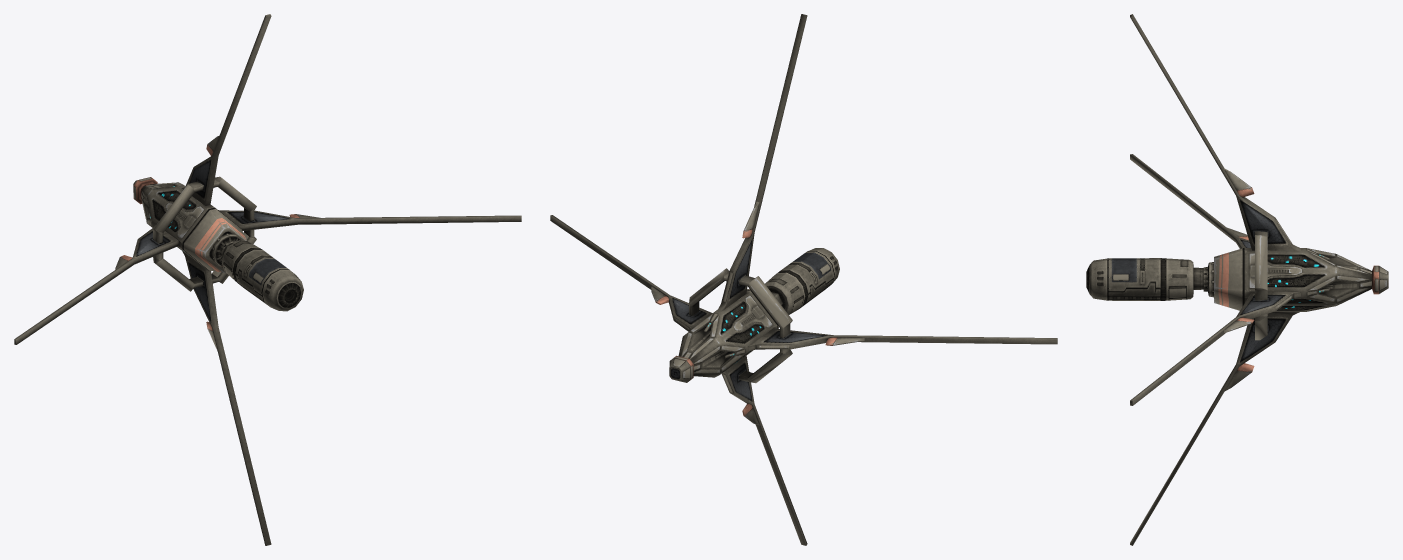
File: 28209_lite.glb
3 renders of one model, left to right at view 1: azimuth 30°, elevation 25°; view 2: azimuth 150°, elevation 25°; view 3: azimuth 270°, elevation 25°, orthographic.
Parts seen in each view (by area): view 1: ship; view 2: ship; view 3: ship.
Part boxes in pixels (box(x1,y1,x2,y2)): ship: box(14, 14, 521, 545); ship: box(550, 14, 1057, 545); ship: box(1086, 14, 1388, 545).
Size of the model in its own units: 0.1104 by 0.1104 by 0.0571.
Materials: 1 (1 with a texture image).
